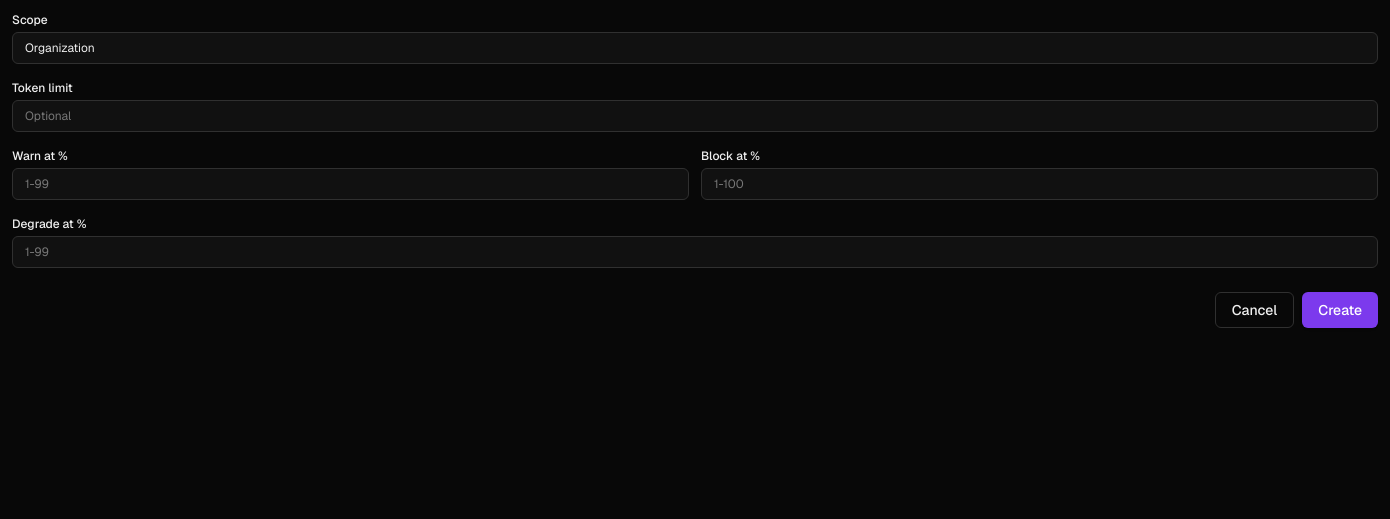
PolicyEditor › warn >= degrade shows validation error
Step 1. Type "90" into the number field with placeholder "1-99" below "Warn at %" → [350, 184], box [12, 168, 689, 200]
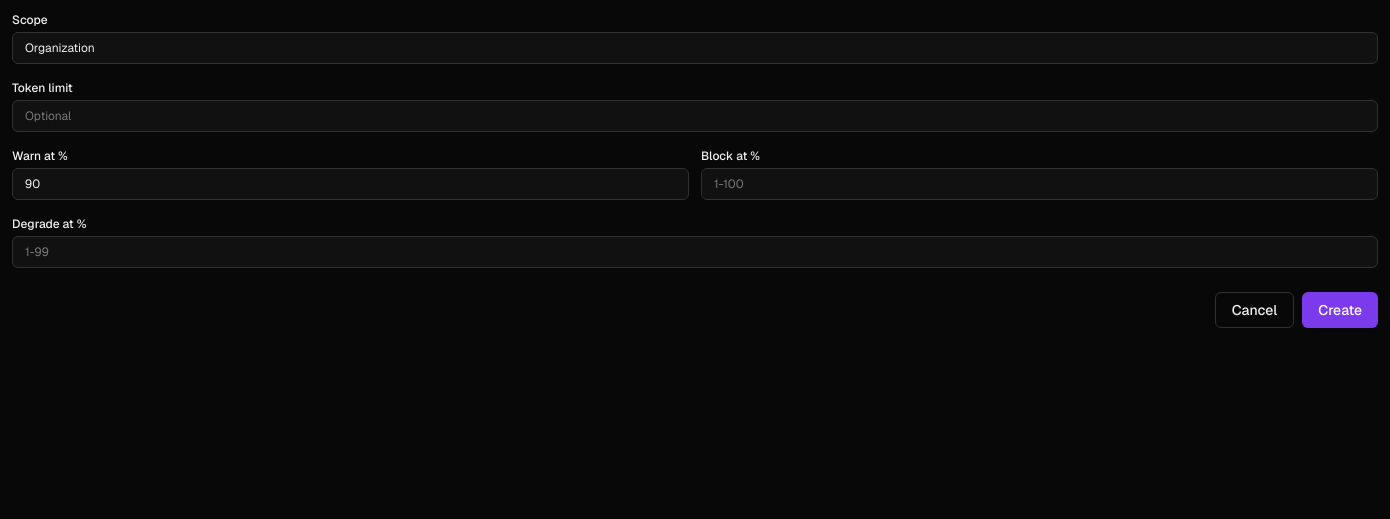
Step 2. Type "80" into the number field with placeholder "1-99" → [695, 252], box [12, 236, 1378, 268]
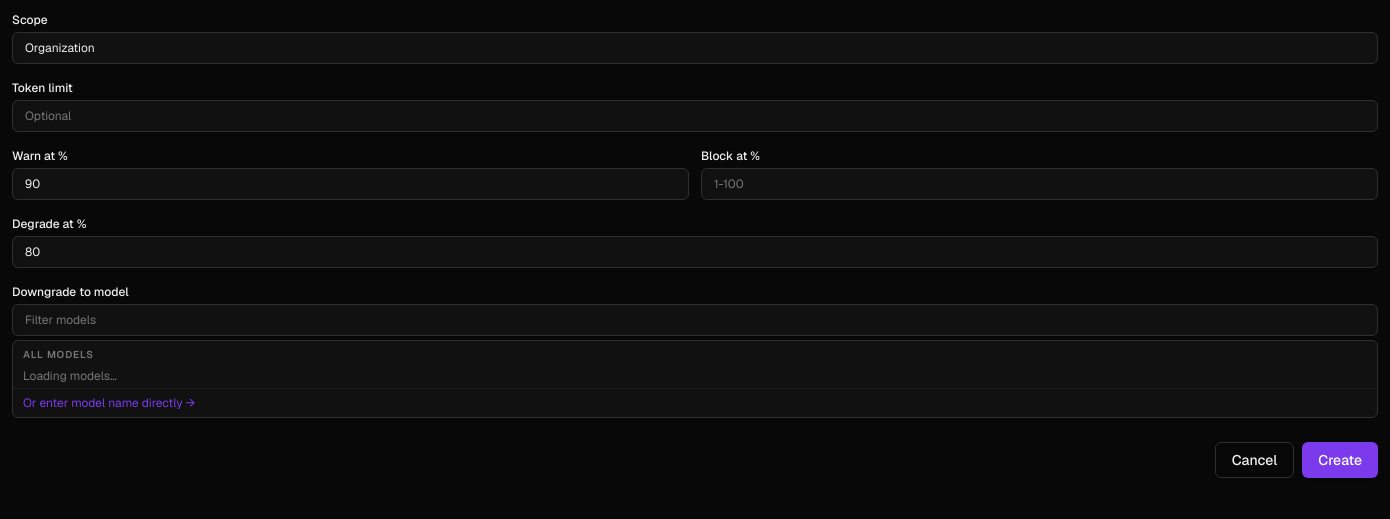
Step 3. Click the button "Create" → [1340, 460], box [1302, 442, 1378, 478]
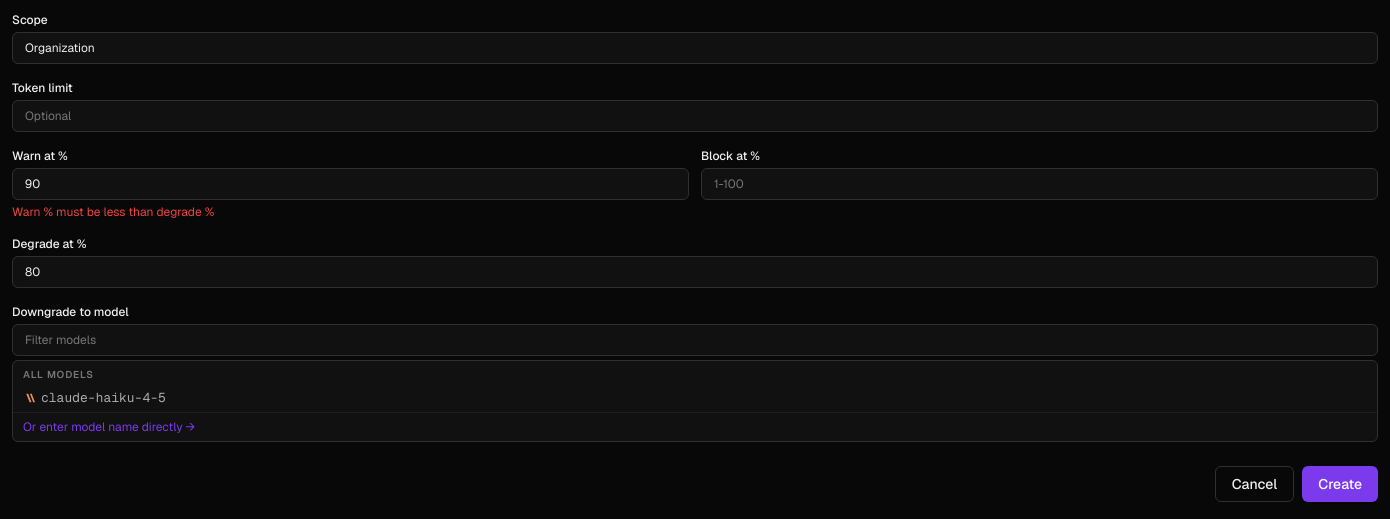
Check: the text "Warn % must be less than degrade %" is shown, box [12, 204, 214, 220]
